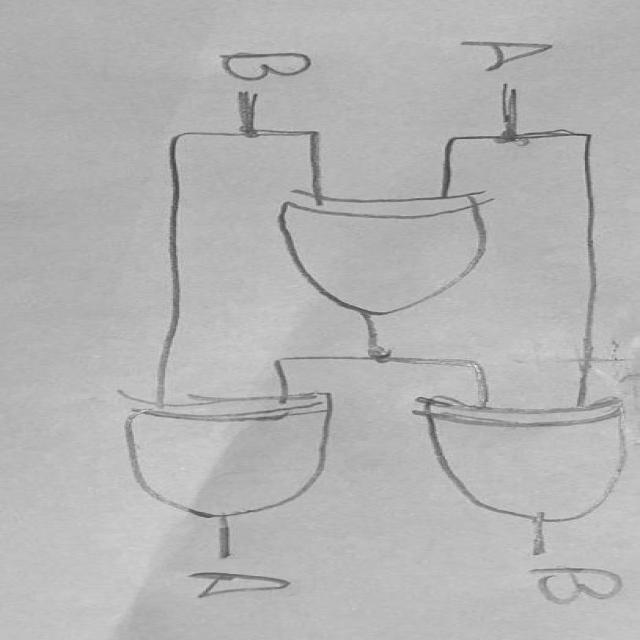XOR: (81, 382, 346, 530), (264, 176, 522, 321), (398, 387, 640, 530)
